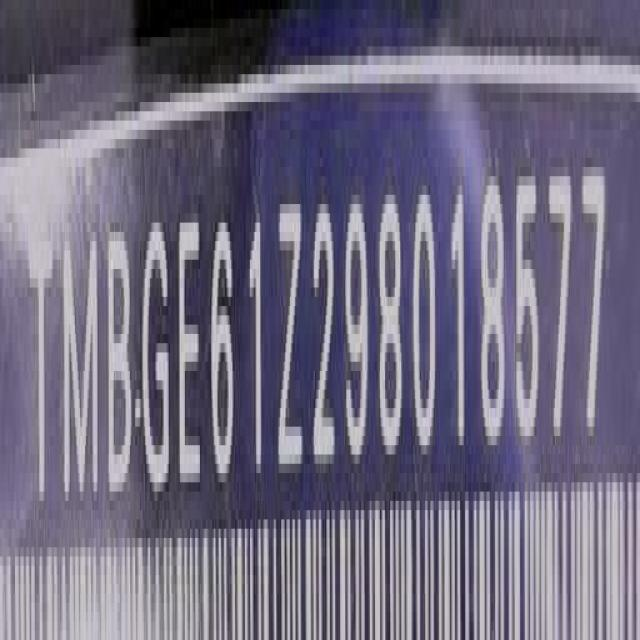0: (411, 178, 438, 466)
1: (449, 169, 472, 462), (250, 210, 268, 496)
2: (316, 203, 340, 481)
5: (514, 168, 542, 454)
6: (210, 210, 236, 501)
7: (583, 156, 610, 450), (548, 160, 573, 453)
8: (479, 171, 507, 459), (379, 187, 407, 467)
9: (346, 196, 372, 474)
B: (107, 225, 135, 508)
E: (180, 210, 205, 504)
G: (139, 219, 170, 506)
M: (62, 247, 101, 515)
T: (24, 230, 54, 505)
Z: (276, 185, 305, 505)
